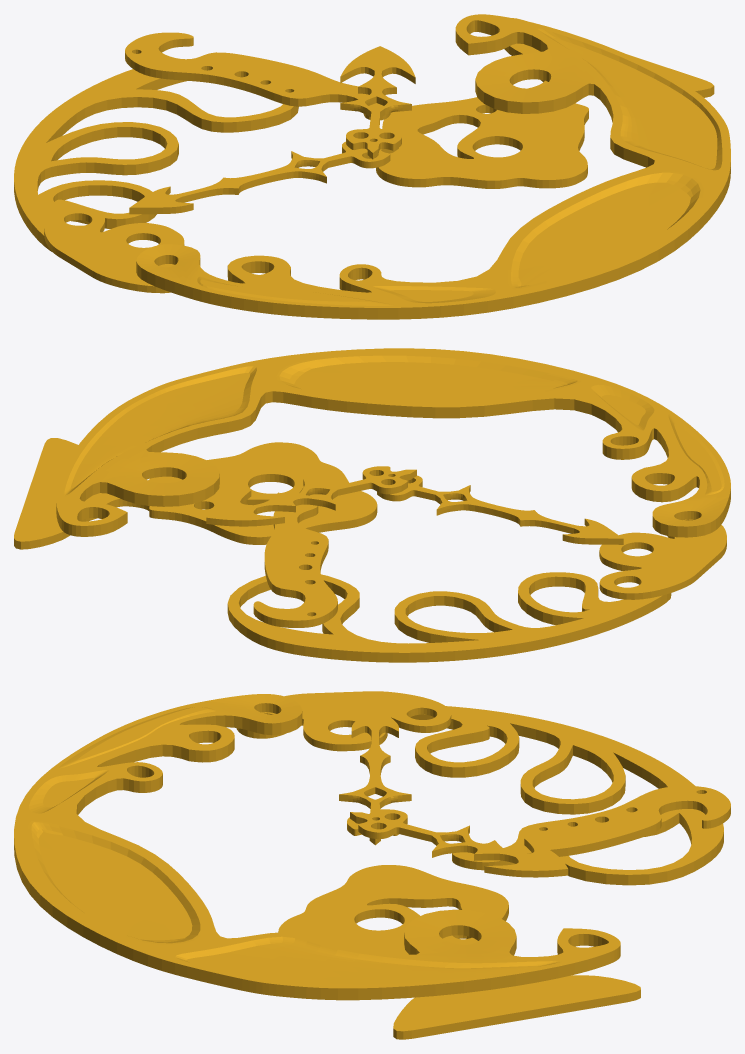
The model's file is gear2.fbx.
3 renders of one model, top to bottom at view 1: azimuth 30°, elevation 25°; view 2: azimuth 150°, elevation 25°; view 3: azimuth 270°, elevation 25°, orthographic. The views are drawn at different scales.
Visible parts, largest first — view 1: Circle.014; view 2: Circle.014; view 3: Circle.014.
Part boxes in pixels (x1,y1,x2,y2): Circle.014: (14, 14, 730, 319); Circle.014: (14, 348, 730, 662); Circle.014: (14, 691, 730, 1039).
Bounding box in the file's own units: 1860 × 2032 × 138.
